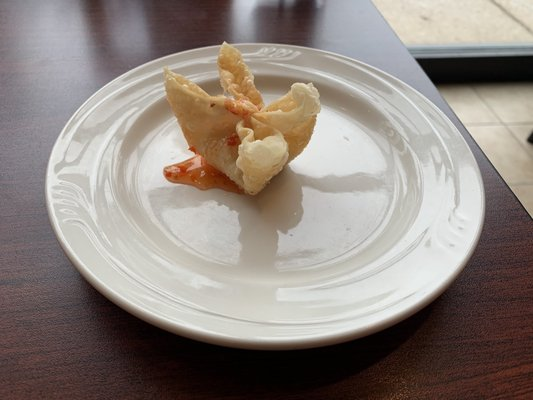curry: (1, 0, 517, 400)
sushi: (162, 50, 321, 197)
